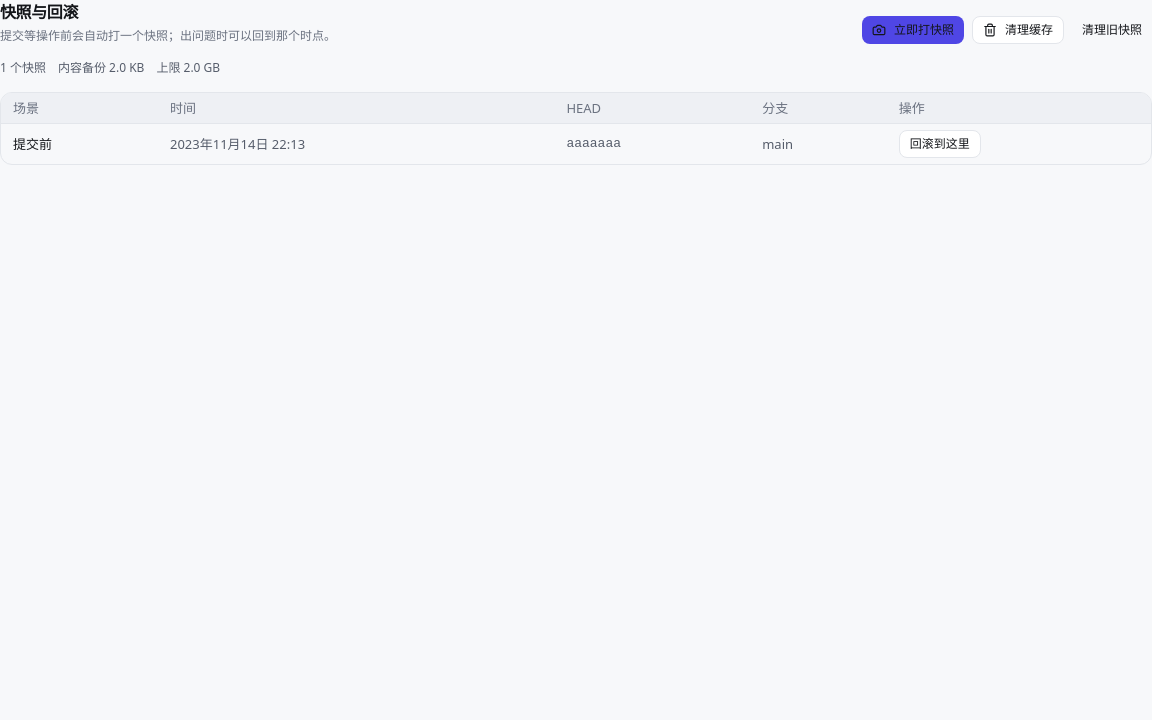
Test: 快照页 › 回滚先取差异摘要，摘要说清未跟踪内容的三分类，确认后展示报告
Step 1. Click the button "回滚到这里" → click(940, 144), box [899,130,981,158]
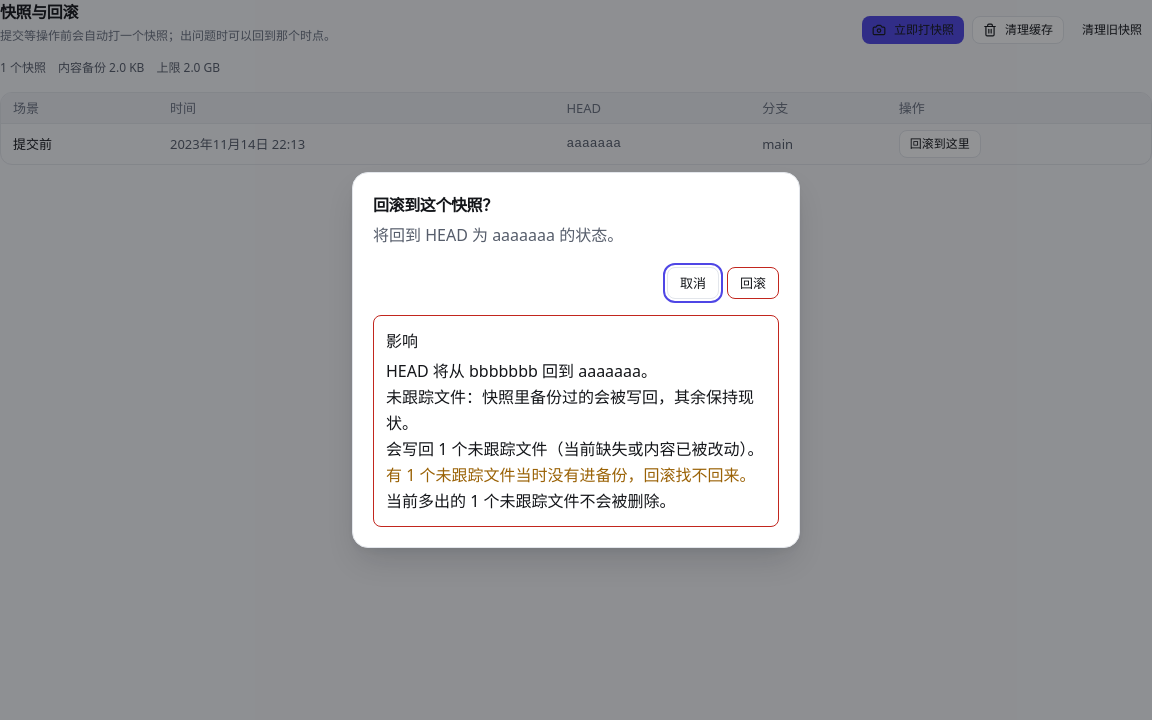
expect the text "会写回 1 个未跟踪文件" is shown: met, box [386,438,764,460]
expect the text "有 1 个未跟踪文件当时没有进备份，回滚找不回来。" is shown: met, box [386,464,756,486]
expect the text "不会被删除" is shown: met, box [386,490,676,512]
Step 2. Click the button "回滚" → click(753, 283), box [727,267,779,299]
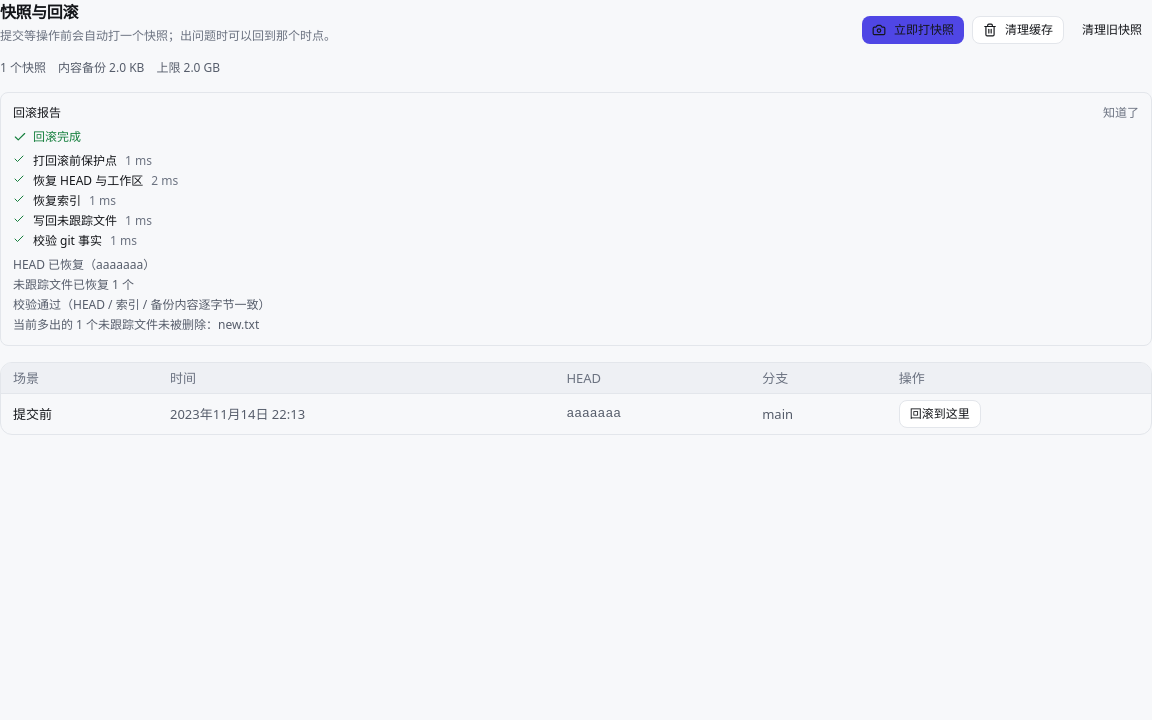
expect the element with test id "snapshot-report" shows "未跟踪文件已恢复 1 个": met, box [13,276,134,293]
expect the element with test id "snapshot-report" shows "校验通过": met, box [13,296,270,313]
expect the element with test id "snapshot-report" shows "未被删除": met, box [13,316,259,333]
